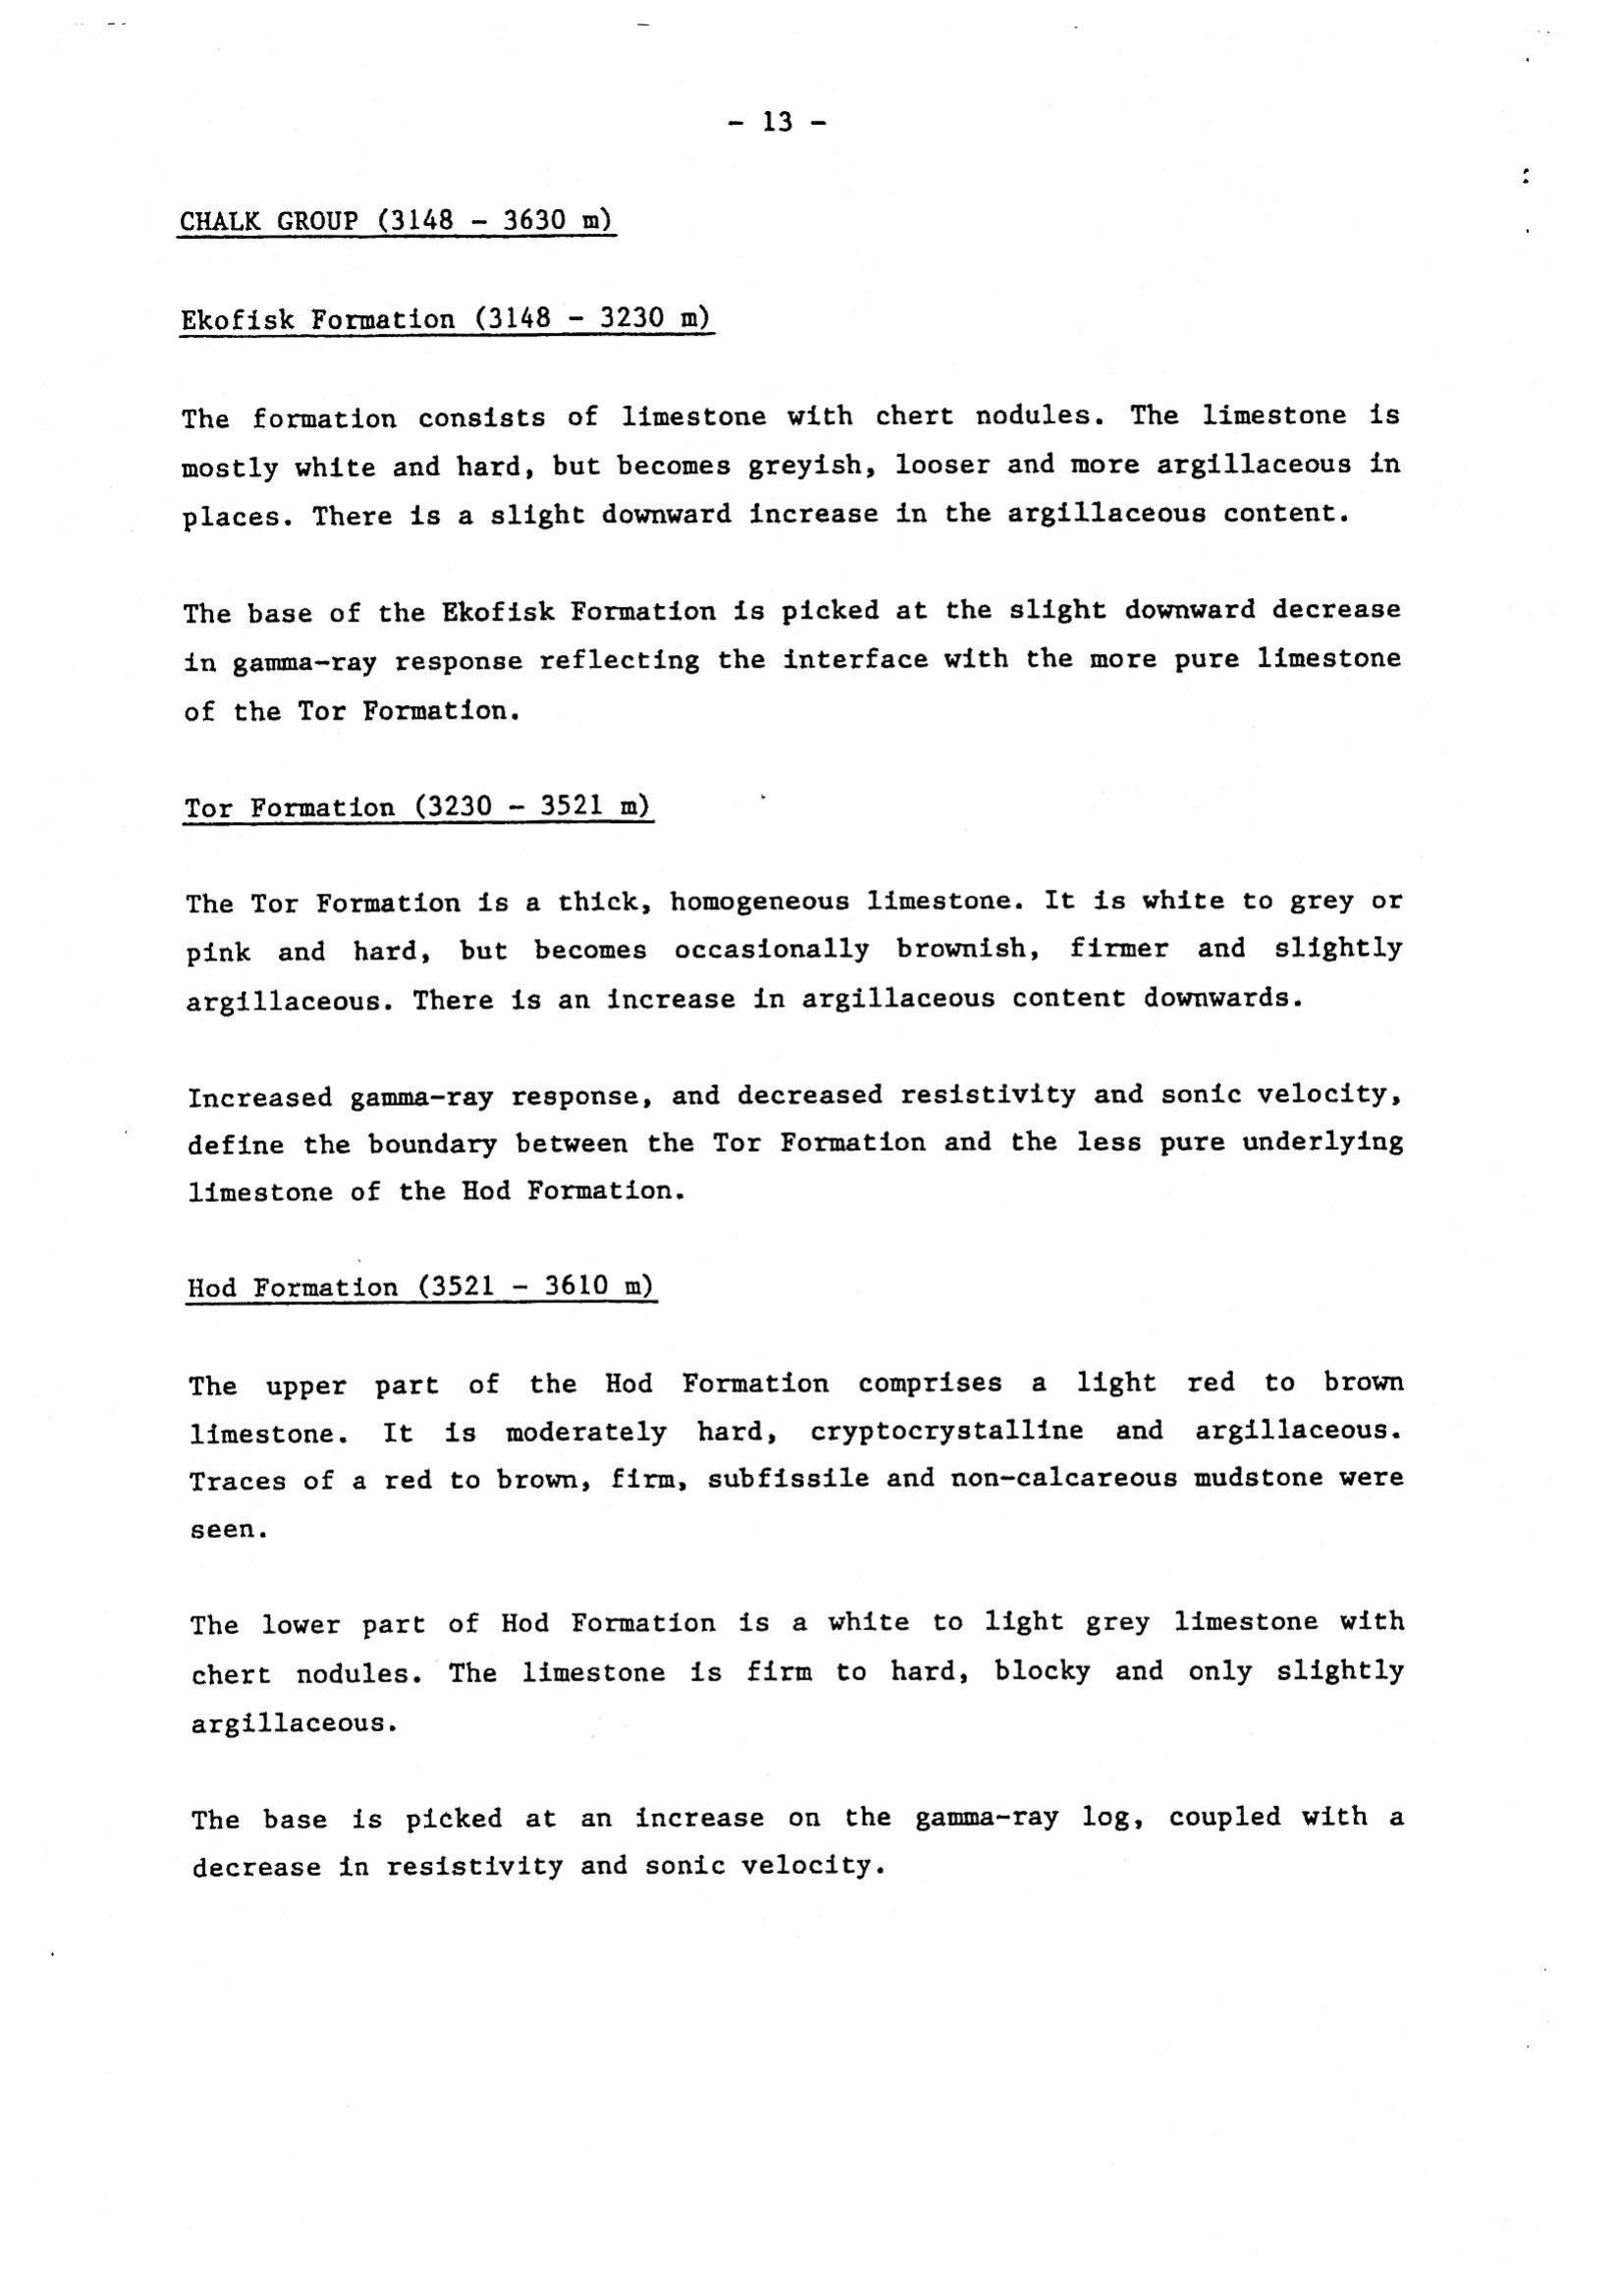text: (158, 186, 1453, 1953)
